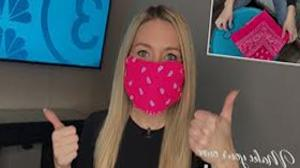mask: (119, 15, 190, 117)
